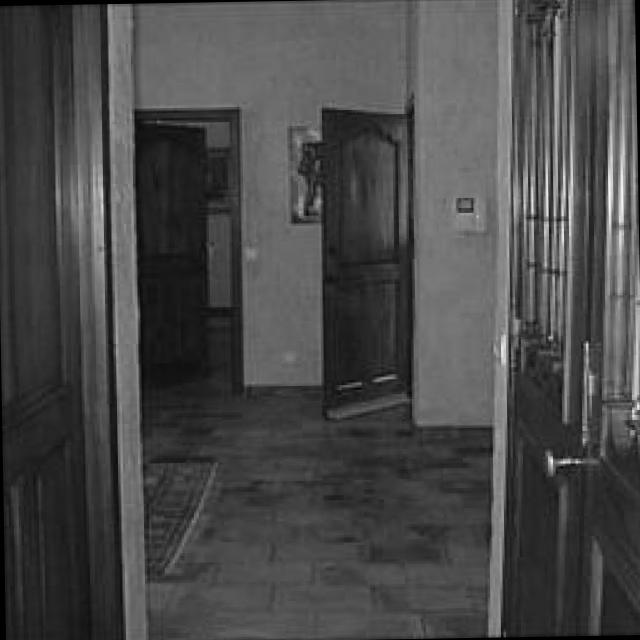painting crop: (292, 122, 328, 223)
